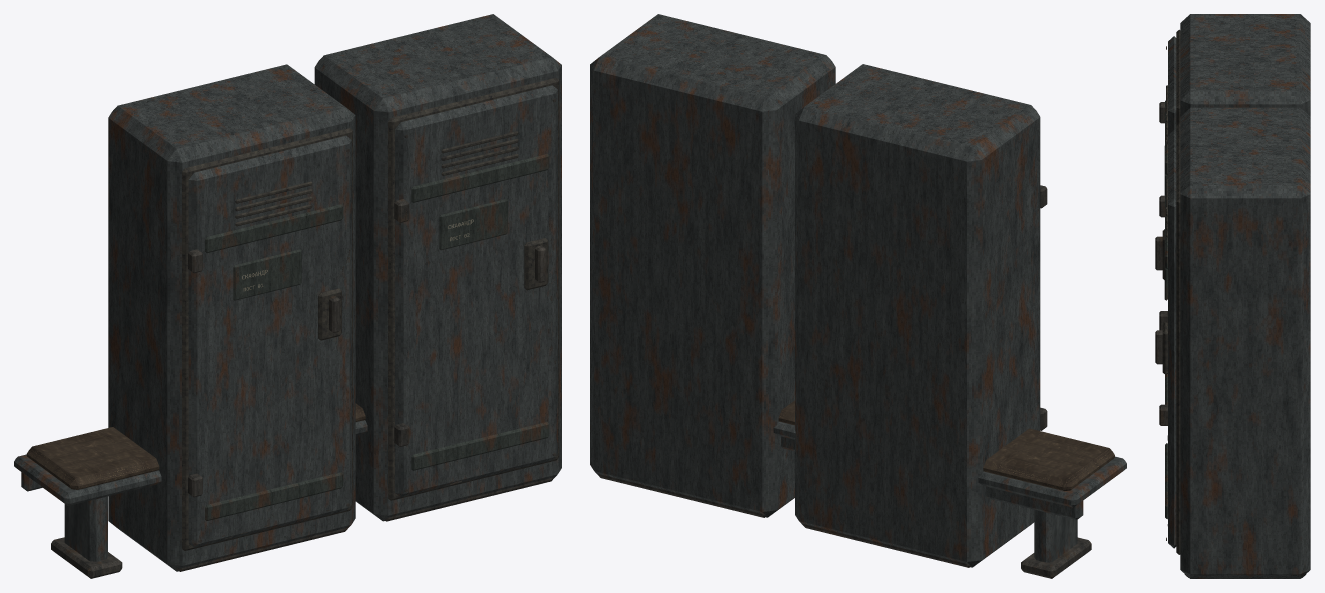
File: airlock_equipment.glb
The picture shows the model from 3 angles, left to right: view 1: azimuth 30°, elevation 25°; view 2: azimuth 150°, elevation 25°; view 3: azimuth 270°, elevation 25°; orthographic projection. The views are drawn at different scales.
Parts seen in each view (by area): view 1: LockersMesh, BenchMesh; view 2: LockersMesh, BenchMesh; view 3: LockersMesh.
Boxes of the visible parts, x1,y1,x2,y2 form: LockersMesh: (108, 14, 561, 571); BenchMesh: (14, 403, 367, 578); LockersMesh: (590, 14, 1047, 567); BenchMesh: (773, 400, 1126, 578); LockersMesh: (1155, 14, 1310, 578).
Bounding box in the file's own units: 2.3 × 1.9 × 0.679.
Materials: 20 (20 with a texture image).
